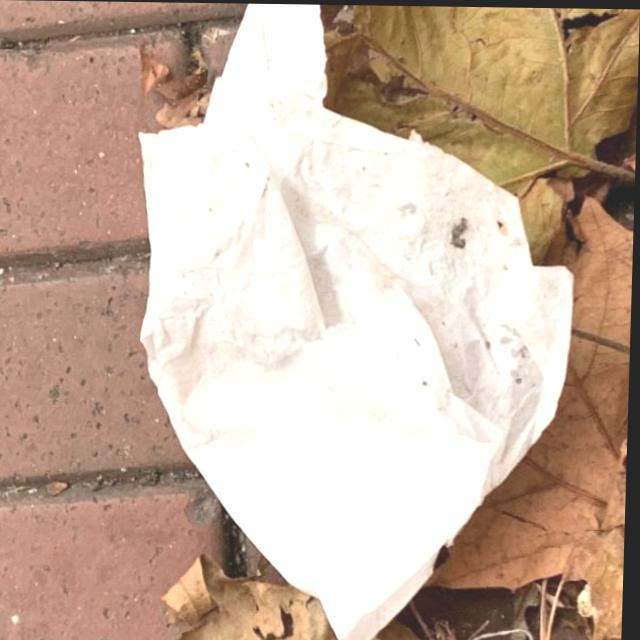Paper: (125, 2, 584, 640)
